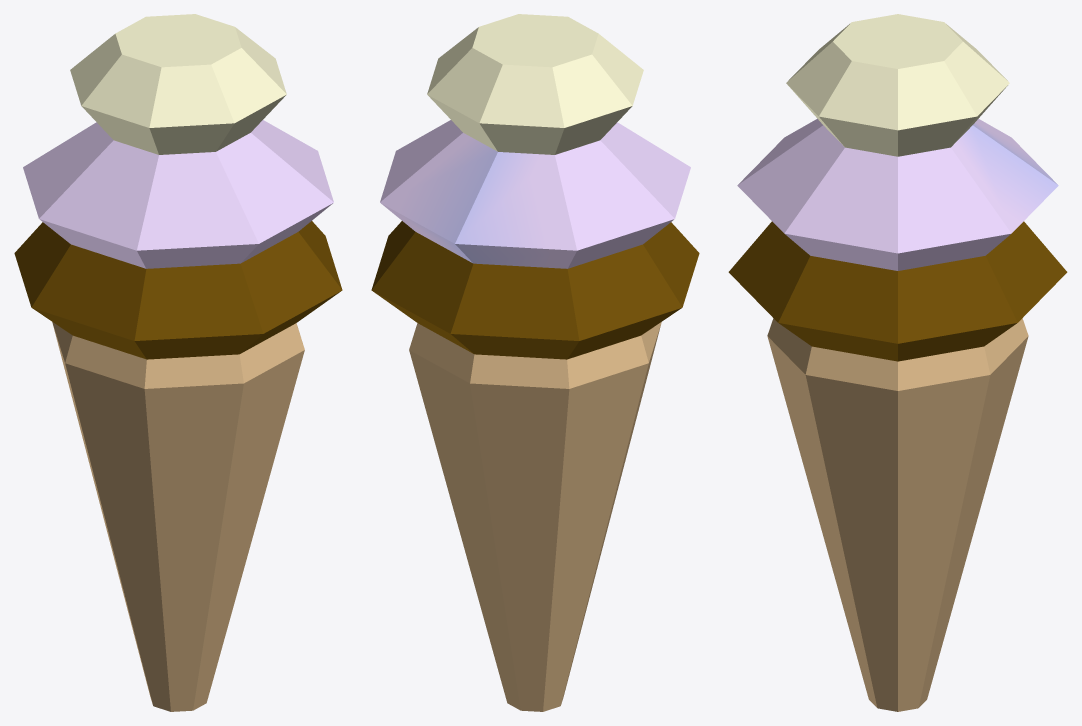
Rendered from IceCream.fbx.
3 views of the same model, side by side, from view 1: azimuth 30°, elevation 25°; view 2: azimuth 150°, elevation 25°; view 3: azimuth 270°, elevation 25° (orthographic).
Parts seen in each view (by area): view 1: IceCream; view 2: IceCream; view 3: IceCream.
Part boxes in pixels (x1=…): IceCream: x1=14, y1=14, x2=342, y2=711; IceCream: x1=371, y1=14, x2=699, y2=711; IceCream: x1=728, y1=14, x2=1067, y2=711.
Bounding box in the file's own units: 8.83 × 18.92 × 8.83.
